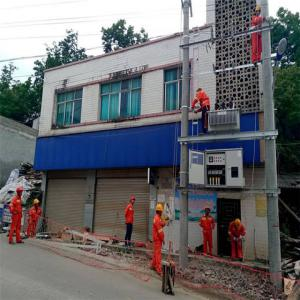red: (16, 186, 24, 198), (130, 197, 136, 205)
yellow: (155, 204, 165, 218), (255, 6, 263, 18), (235, 219, 242, 230), (205, 207, 212, 216), (34, 198, 40, 208)
